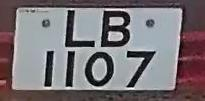0: (79, 48, 119, 90)
1: (36, 46, 64, 92), (55, 48, 81, 91)
7: (117, 45, 162, 92)
B: (95, 6, 136, 51)
L: (54, 5, 98, 55)
